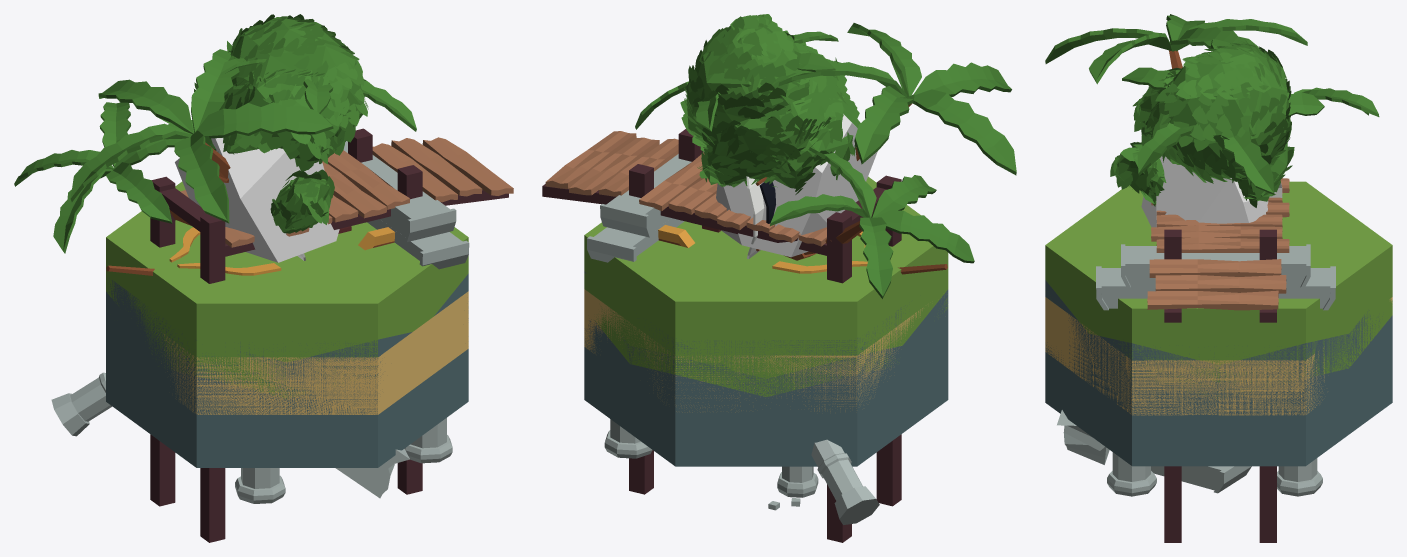
Rendered from gun.glb.
The picture shows the model from 3 angles, left to right: view 1: azimuth 30°, elevation 25°; view 2: azimuth 150°, elevation 25°; view 3: azimuth 270°, elevation 25°; orthographic projection. The views are drawn at different scales.
Parts seen in each view (by area): view 1: земля2, причал, песок, пальма1, cскала, земля, руимны, земля.3, Cube, пальма3, foliage.001, ship2 (+2 smaller); view 2: земля2, земля.3, земля, причал, пальма1, руимны, cскала, пальма3, песок, Cube, foliage.001, foliage.002 (+3 smaller); view 3: земля2, причал, песок, земля, руимны, foliage.001, пальма1, Cube, земля.3, пальма2, foliage.002, пальма3.
Boxes of the visible parts, bbox=[...] form: земля2: bbox=[106, 181, 468, 467]; причал: bbox=[150, 128, 513, 542]; песок: bbox=[158, 291, 468, 414]; пальма1: bbox=[70, 49, 333, 223]; cскала: bbox=[106, 278, 377, 434]; земля: bbox=[106, 286, 377, 433]; руимны: bbox=[51, 141, 469, 503]; земля.3: bbox=[106, 255, 377, 449]; Cube: bbox=[175, 138, 339, 262]; пальма3: bbox=[14, 102, 194, 253]; foliage.001: bbox=[209, 17, 363, 153]; ship2: bbox=[106, 226, 395, 275]; земля2: bbox=[584, 176, 948, 466]; земля.3: bbox=[584, 253, 948, 448]; земля: bbox=[584, 273, 948, 431]; причал: bbox=[542, 129, 901, 542]; пальма1: bbox=[778, 23, 1016, 175]; руимны: bbox=[587, 154, 879, 524]; cскала: bbox=[584, 305, 934, 432]; пальма3: bbox=[770, 147, 974, 298]; песок: bbox=[584, 289, 922, 412]; Cube: bbox=[716, 114, 877, 257]; foliage.001: bbox=[686, 23, 853, 188]; foliage.002: bbox=[702, 76, 838, 184]; земля2: bbox=[1045, 181, 1392, 466]; причал: bbox=[1147, 178, 1289, 542]; песок: bbox=[1045, 297, 1392, 415]; земля: bbox=[1045, 281, 1392, 433]; руимны: bbox=[1057, 244, 1335, 496]; foliage.001: bbox=[1153, 43, 1287, 178]; пальма1: bbox=[1045, 14, 1307, 84]; Cube: bbox=[1141, 156, 1268, 227]; земля.3: bbox=[1111, 263, 1392, 425]; пальма2: bbox=[1122, 39, 1324, 194]; foliage.002: bbox=[1117, 87, 1287, 197]; пальма3: bbox=[1293, 87, 1379, 116].
Bounding box in the file's own units: 7.5 × 7.94 × 5.53.
Materials: 1 (1 with a texture image).
